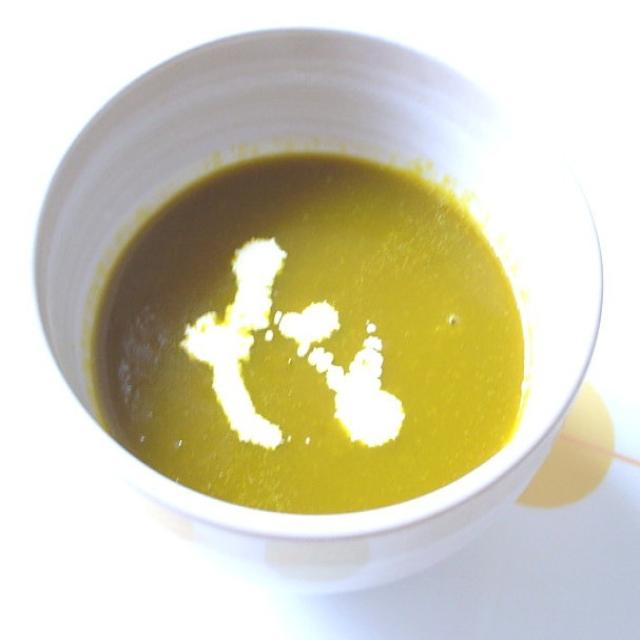汤锅炖物: (17, 11, 620, 620)
